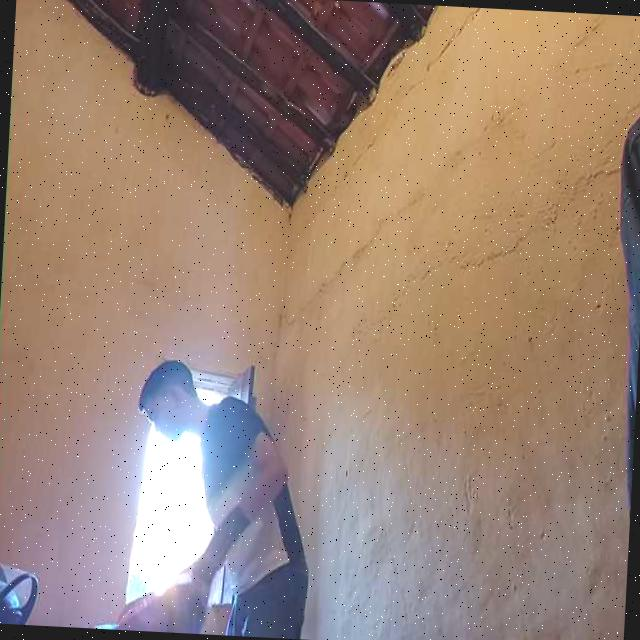capacete: (0, 556, 48, 626)
colete: (106, 566, 208, 634)
pessoa: (112, 354, 319, 640)
